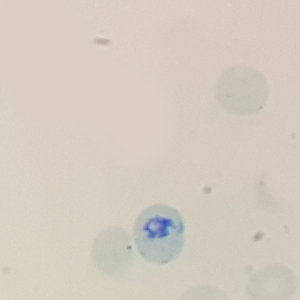aggregate reticulocyte: (132, 201, 187, 267)
punctate reticulocyte: (211, 63, 269, 118), (89, 226, 136, 279)
